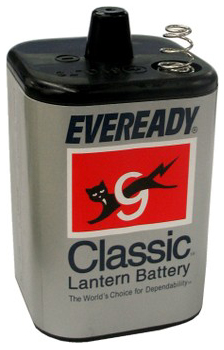6V: (9, 2, 207, 344)
